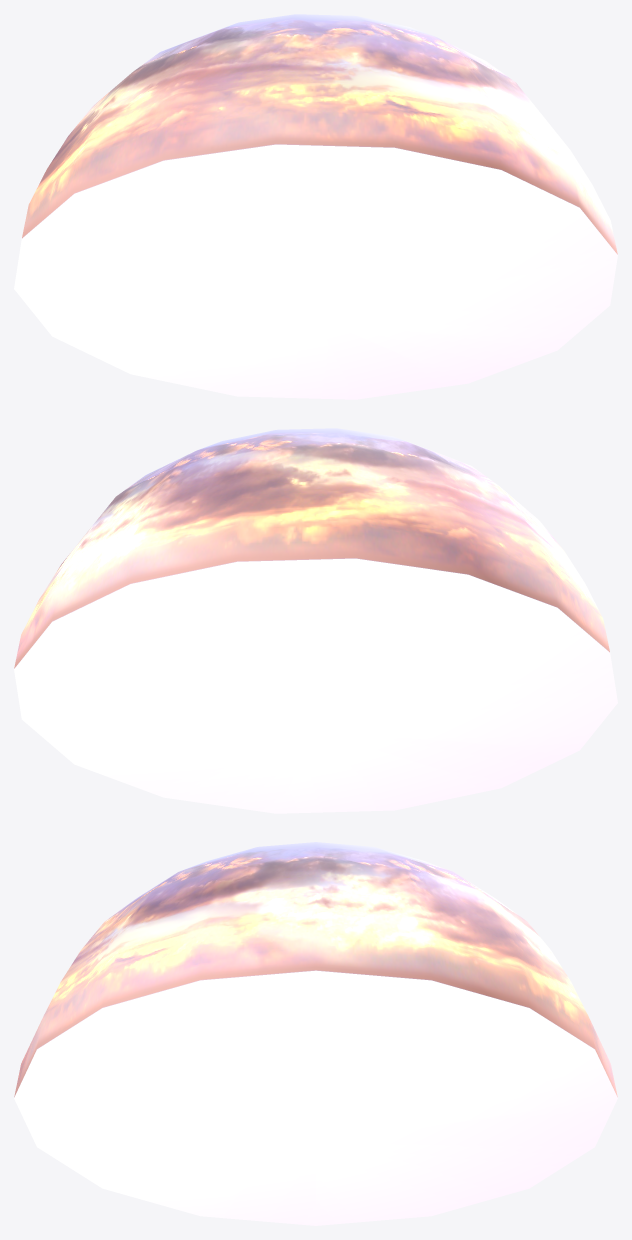
Rendered from bes2_sky_dome.glb.
3 views of the same model, one above another, from view 1: azimuth 30°, elevation 25°; view 2: azimuth 150°, elevation 25°; view 3: azimuth 270°, elevation 25° (orthographic).
Parts seen in each view (by area): view 1: sky; view 2: sky; view 3: sky.
Boxes of the visible parts, left/top/right/bottom form: sky: left=14, top=14, right=617, bottom=399; sky: left=14, top=428, right=617, bottom=813; sky: left=14, top=842, right=617, bottom=1225.
Bounding box in the file's own units: 13.56 × 6.65 × 13.56.
